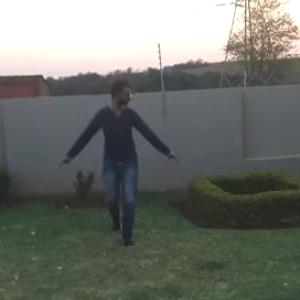land: (49, 77, 180, 263)
